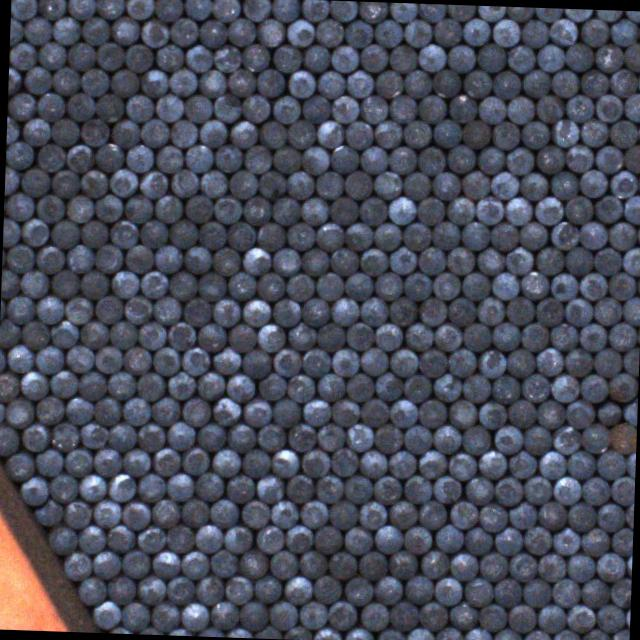tool: (238, 600, 268, 630), (594, 550, 624, 580), (579, 578, 609, 608), (596, 602, 626, 632), (534, 398, 564, 428), (536, 498, 566, 528), (580, 422, 610, 452), (506, 552, 536, 582), (493, 475, 523, 505), (388, 600, 418, 630), (464, 474, 494, 504), (463, 577, 493, 607), (594, 450, 624, 480), (418, 500, 448, 530), (476, 42, 506, 71), (419, 600, 448, 630), (566, 602, 595, 632), (564, 399, 594, 428), (506, 398, 536, 427), (567, 500, 596, 530), (448, 498, 477, 528), (4, 397, 33, 427), (477, 400, 506, 430), (606, 320, 635, 350), (507, 602, 536, 632), (446, 399, 476, 428), (608, 371, 638, 400), (596, 502, 626, 531), (521, 424, 550, 454), (550, 424, 579, 453), (49, 421, 78, 450), (579, 527, 608, 556), (578, 372, 607, 401), (460, 272, 489, 301), (342, 576, 371, 605), (356, 551, 385, 580), (536, 603, 565, 632), (372, 574, 401, 603), (418, 450, 447, 479), (243, 348, 272, 377), (432, 423, 461, 452), (520, 578, 549, 607), (462, 322, 491, 351), (388, 549, 417, 578), (300, 348, 329, 377), (476, 349, 505, 378), (493, 526, 522, 555), (489, 374, 518, 403), (491, 578, 520, 607), (478, 450, 507, 479), (462, 374, 491, 403), (478, 503, 507, 532), (462, 426, 491, 455), (503, 296, 532, 325), (64, 550, 92, 580), (193, 574, 221, 604), (564, 346, 592, 376), (314, 220, 342, 250), (196, 270, 224, 300), (90, 599, 120, 627), (64, 242, 92, 272), (93, 242, 121, 272), (48, 472, 76, 502), (550, 476, 580, 504), (520, 373, 548, 403), (78, 369, 106, 399), (448, 346, 476, 376), (388, 398, 416, 428), (284, 372, 312, 402), (34, 192, 62, 222), (404, 424, 432, 454), (374, 423, 402, 453), (389, 296, 417, 326), (212, 296, 240, 326), (374, 322, 402, 352), (522, 474, 550, 504), (121, 500, 149, 530), (212, 346, 242, 374), (210, 396, 238, 426), (538, 550, 566, 580), (592, 346, 620, 376), (550, 578, 578, 608), (548, 321, 578, 349), (330, 397, 360, 425), (567, 448, 595, 478), (608, 422, 636, 452), (506, 348, 534, 378), (403, 270, 431, 300), (359, 396, 387, 426), (388, 346, 416, 376), (6, 452, 34, 482), (506, 449, 536, 477), (20, 474, 48, 504), (136, 576, 166, 604), (508, 500, 536, 530), (594, 42, 622, 71), (93, 295, 121, 324), (488, 221, 516, 250), (242, 196, 270, 225), (180, 601, 208, 630), (50, 67, 78, 96), (36, 396, 64, 425), (182, 346, 210, 375), (373, 524, 401, 553), (430, 172, 458, 201), (109, 120, 138, 148), (330, 347, 358, 376), (504, 195, 532, 224), (343, 272, 371, 301), (164, 576, 192, 605), (328, 500, 356, 529), (314, 524, 342, 553), (328, 600, 356, 629), (580, 476, 609, 504), (48, 524, 76, 553), (20, 166, 48, 195), (386, 94, 414, 123), (137, 421, 165, 450), (344, 120, 372, 149), (416, 197, 444, 226), (19, 370, 47, 399), (138, 119, 166, 148), (228, 169, 256, 198), (433, 576, 461, 605), (66, 41, 94, 70), (316, 474, 344, 503), (608, 67, 636, 96), (6, 244, 34, 273), (124, 43, 152, 72), (607, 119, 635, 148), (241, 247, 270, 275), (402, 222, 431, 250), (342, 474, 370, 503), (182, 397, 210, 426), (94, 93, 122, 122), (434, 16, 462, 45), (538, 449, 566, 478), (79, 270, 108, 298), (550, 170, 578, 199), (316, 373, 344, 402), (533, 298, 562, 326), (535, 346, 563, 375), (606, 220, 634, 249), (476, 295, 504, 324), (344, 373, 372, 402), (416, 147, 444, 176), (120, 602, 148, 631), (519, 321, 547, 350), (420, 348, 448, 377), (258, 322, 286, 351), (210, 247, 238, 276), (550, 373, 578, 402), (446, 452, 475, 480), (403, 574, 432, 602), (448, 297, 476, 326), (448, 552, 477, 580), (107, 421, 135, 450), (151, 396, 179, 425), (284, 271, 312, 300), (403, 473, 431, 502), (138, 219, 166, 248), (150, 601, 178, 630), (566, 551, 594, 580), (270, 448, 298, 477), (4, 190, 32, 219), (197, 424, 226, 452), (522, 524, 550, 553), (402, 525, 431, 553), (578, 321, 606, 350), (432, 474, 461, 502), (552, 525, 580, 554), (477, 552, 506, 580), (463, 526, 492, 554), (374, 372, 402, 401), (317, 323, 345, 352), (477, 602, 506, 630), (432, 526, 461, 554), (286, 322, 314, 351), (494, 426, 523, 454), (491, 320, 518, 350), (108, 370, 135, 400), (51, 268, 78, 298), (227, 372, 254, 402), (22, 320, 49, 350), (169, 18, 197, 46), (255, 525, 283, 553), (78, 577, 106, 605), (460, 120, 488, 148), (108, 219, 136, 247), (242, 498, 270, 526), (242, 145, 270, 173), (6, 344, 34, 372), (286, 69, 314, 97), (578, 220, 606, 248), (432, 271, 460, 299), (125, 143, 153, 171), (36, 42, 64, 70), (284, 18, 312, 46), (386, 145, 414, 173), (550, 118, 578, 146), (592, 296, 620, 324), (95, 42, 123, 70), (194, 524, 222, 552), (520, 120, 548, 148), (594, 94, 622, 122), (80, 220, 108, 248), (475, 195, 503, 223), (22, 118, 50, 146), (268, 551, 296, 579), (212, 144, 240, 172), (80, 67, 108, 95), (564, 42, 592, 70), (64, 194, 92, 222), (90, 549, 118, 577), (519, 272, 547, 300), (34, 142, 62, 170), (374, 70, 402, 98), (444, 246, 472, 274), (328, 550, 356, 578), (489, 172, 517, 200), (183, 143, 211, 171), (446, 44, 474, 72), (108, 69, 136, 97), (302, 95, 330, 123), (20, 270, 48, 298), (563, 144, 591, 172), (580, 69, 608, 97), (52, 16, 80, 44), (360, 296, 388, 324), (197, 322, 225, 350), (533, 195, 561, 223), (150, 498, 178, 526), (241, 93, 269, 121), (535, 247, 563, 275), (93, 344, 121, 372), (198, 118, 226, 146), (386, 196, 414, 224), (418, 399, 446, 427), (121, 448, 149, 476), (345, 422, 373, 450), (358, 146, 386, 174), (64, 501, 92, 529), (268, 499, 296, 527), (593, 194, 621, 222), (331, 296, 359, 324), (564, 296, 592, 324), (109, 320, 137, 348), (356, 500, 384, 528), (284, 524, 312, 552), (210, 498, 238, 526), (256, 18, 284, 46), (578, 273, 606, 301), (94, 142, 122, 170), (446, 144, 474, 172), (208, 600, 236, 628), (373, 19, 401, 47), (459, 220, 487, 248), (564, 95, 592, 123), (286, 423, 314, 451), (373, 170, 401, 198), (78, 524, 106, 552), (520, 19, 548, 47), (183, 298, 211, 326), (286, 118, 314, 146), (169, 120, 197, 148), (314, 18, 342, 46), (109, 17, 137, 45), (578, 170, 606, 198), (150, 548, 178, 576), (242, 448, 270, 476), (581, 16, 609, 44), (82, 17, 110, 45), (92, 446, 120, 474), (138, 170, 166, 198), (491, 120, 519, 148), (79, 118, 107, 146), (330, 44, 358, 72), (357, 196, 385, 224), (227, 220, 255, 248), (343, 220, 371, 248), (92, 499, 120, 527), (124, 92, 152, 120), (373, 118, 401, 146), (416, 94, 444, 122), (548, 272, 576, 300), (154, 195, 182, 223), (300, 499, 328, 527), (240, 42, 268, 70), (330, 247, 358, 275), (211, 448, 239, 476), (372, 272, 400, 300), (272, 43, 300, 71), (108, 168, 136, 196), (431, 220, 459, 248), (106, 524, 134, 552), (592, 247, 620, 275), (448, 94, 476, 122), (227, 324, 255, 352), (34, 246, 62, 274), (106, 575, 134, 603), (563, 246, 591, 274), (550, 68, 578, 96), (490, 272, 518, 300), (134, 372, 162, 400), (606, 272, 634, 300), (212, 93, 240, 121), (64, 144, 92, 172), (402, 374, 430, 402), (121, 550, 149, 578), (34, 296, 62, 324), (372, 476, 400, 504), (491, 70, 519, 98), (179, 550, 207, 578), (461, 170, 489, 198), (65, 92, 93, 120), (358, 348, 386, 376), (226, 18, 254, 46), (506, 45, 534, 73), (360, 602, 388, 630), (342, 526, 370, 554), (593, 144, 621, 172), (124, 245, 152, 273), (194, 472, 222, 500), (185, 194, 213, 222), (124, 194, 152, 222), (196, 68, 224, 96), (94, 193, 122, 221), (358, 449, 386, 477), (153, 296, 181, 324), (314, 273, 342, 301), (238, 550, 266, 578), (110, 270, 138, 298), (283, 574, 311, 602), (64, 448, 92, 476), (302, 298, 330, 326), (168, 168, 196, 196), (271, 248, 299, 276), (315, 424, 343, 452), (168, 67, 196, 95), (271, 299, 299, 327), (198, 220, 226, 248), (416, 246, 444, 274), (388, 44, 416, 72), (433, 120, 461, 148), (300, 196, 328, 224), (344, 19, 372, 47), (562, 196, 590, 224), (298, 600, 326, 628), (504, 247, 532, 275), (198, 18, 226, 46), (358, 248, 386, 276), (168, 218, 196, 246), (6, 296, 34, 324), (138, 270, 166, 298), (257, 424, 285, 452), (301, 449, 329, 477), (372, 221, 400, 249), (228, 120, 256, 148), (387, 500, 415, 528), (257, 222, 285, 250), (610, 170, 638, 198), (256, 272, 284, 300), (254, 574, 282, 602), (610, 18, 638, 46), (476, 247, 504, 275), (301, 248, 329, 276), (404, 324, 432, 352), (139, 69, 167, 97), (550, 220, 578, 248), (266, 600, 294, 628), (418, 296, 446, 324), (180, 498, 208, 526), (244, 397, 272, 425), (271, 398, 299, 426), (137, 523, 165, 551), (450, 600, 478, 628), (272, 346, 300, 374), (256, 170, 284, 198), (35, 92, 62, 121), (330, 448, 357, 477), (224, 575, 251, 604), (257, 67, 284, 96), (286, 473, 313, 502), (153, 346, 180, 375), (358, 95, 385, 124), (431, 66, 458, 95), (51, 220, 78, 249), (167, 320, 194, 349), (285, 170, 312, 199), (227, 424, 254, 453), (522, 67, 549, 96), (165, 522, 192, 551), (164, 472, 191, 501), (301, 146, 328, 175), (478, 95, 505, 124), (403, 170, 430, 199), (93, 397, 120, 426), (49, 370, 76, 398), (121, 396, 148, 424), (183, 244, 210, 272), (462, 70, 489, 98), (21, 218, 48, 246), (65, 344, 92, 372), (272, 95, 299, 123), (80, 321, 108, 348), (330, 197, 358, 224), (182, 94, 209, 122), (226, 476, 253, 504), (491, 17, 518, 45), (314, 576, 341, 604), (156, 92, 183, 120), (23, 16, 50, 44), (136, 321, 164, 348), (535, 43, 562, 71), (403, 120, 430, 148), (550, 16, 577, 44), (223, 524, 250, 552), (404, 70, 431, 98), (51, 118, 78, 146), (64, 397, 91, 425), (108, 473, 135, 501), (330, 146, 358, 173), (518, 222, 545, 250), (402, 18, 429, 46), (298, 550, 325, 578), (64, 295, 91, 323), (345, 69, 372, 97), (255, 476, 282, 504), (507, 95, 534, 123), (226, 68, 253, 96), (315, 71, 342, 99), (78, 169, 105, 197), (315, 170, 342, 198), (154, 245, 181, 273), (212, 44, 239, 72), (477, 147, 504, 175), (34, 346, 61, 374), (386, 451, 414, 478), (141, 20, 168, 48), (520, 172, 547, 200), (344, 170, 371, 198), (345, 322, 373, 349), (329, 95, 356, 123), (183, 44, 210, 72), (23, 66, 50, 94), (154, 42, 181, 70), (168, 270, 195, 298), (51, 168, 78, 196), (433, 322, 461, 349), (212, 195, 240, 222), (446, 197, 474, 224), (272, 146, 300, 173), (228, 270, 255, 298), (302, 399, 330, 426), (434, 372, 462, 399), (166, 372, 194, 399), (199, 169, 226, 197), (387, 247, 414, 275), (50, 320, 77, 348), (34, 448, 62, 475), (259, 120, 286, 148), (421, 550, 448, 578), (34, 499, 62, 526), (241, 299, 269, 326), (138, 473, 164, 502), (7, 91, 33, 120), (534, 95, 560, 124), (152, 446, 178, 475), (196, 372, 223, 399), (166, 422, 193, 449), (79, 474, 106, 501), (418, 42, 444, 70), (462, 16, 488, 44), (124, 346, 150, 374), (358, 42, 384, 70), (272, 196, 298, 224), (156, 144, 182, 172), (536, 145, 562, 173), (208, 549, 234, 577), (506, 146, 532, 174), (316, 120, 342, 148), (580, 118, 606, 146), (5, 140, 31, 168), (182, 445, 208, 473), (124, 296, 150, 324), (286, 220, 312, 248), (302, 42, 328, 70), (258, 372, 284, 400), (22, 422, 48, 450), (610, 476, 634, 506), (81, 421, 108, 447), (9, 42, 34, 70), (609, 526, 633, 555), (596, 400, 622, 426), (609, 576, 631, 606), (356, 1, 386, 22), (155, 0, 183, 21), (330, 0, 357, 21), (301, 0, 329, 20), (210, 0, 238, 20), (388, 2, 417, 21), (621, 246, 640, 275), (621, 294, 640, 323), (271, 0, 298, 20), (0, 425, 18, 455), (621, 346, 639, 376), (37, 0, 65, 19), (241, 0, 269, 19), (622, 193, 640, 222), (0, 371, 18, 400), (622, 142, 640, 171), (0, 317, 18, 346), (181, 0, 208, 19), (67, 0, 94, 19), (1, 268, 18, 298), (95, 0, 123, 18), (418, 3, 446, 21), (126, 0, 154, 18), (623, 40, 640, 69), (623, 92, 640, 121), (10, 0, 35, 19), (2, 217, 18, 246), (622, 398, 638, 426), (446, 4, 473, 19), (254, 624, 281, 639), (463, 626, 491, 640), (434, 626, 462, 640), (534, 8, 562, 22), (492, 627, 522, 640), (284, 626, 311, 640), (4, 166, 18, 193), (405, 627, 433, 640), (478, 6, 504, 20), (345, 627, 373, 640), (580, 628, 610, 640), (550, 628, 579, 640), (507, 7, 533, 20), (314, 627, 340, 640), (564, 9, 592, 21), (10, 16, 22, 44), (377, 628, 405, 640), (624, 451, 636, 479), (225, 626, 252, 638), (6, 116, 18, 143), (8, 66, 20, 92), (594, 10, 622, 21), (521, 629, 549, 640), (624, 501, 634, 529), (196, 627, 223, 637), (165, 626, 191, 636), (610, 628, 629, 640), (136, 626, 162, 634), (625, 550, 632, 579), (108, 627, 134, 634), (625, 10, 640, 21), (624, 603, 630, 630), (635, 272, 640, 300), (636, 217, 640, 247), (0, 347, 4, 375), (637, 69, 640, 96), (637, 118, 640, 145), (0, 400, 3, 427), (637, 170, 640, 197)
